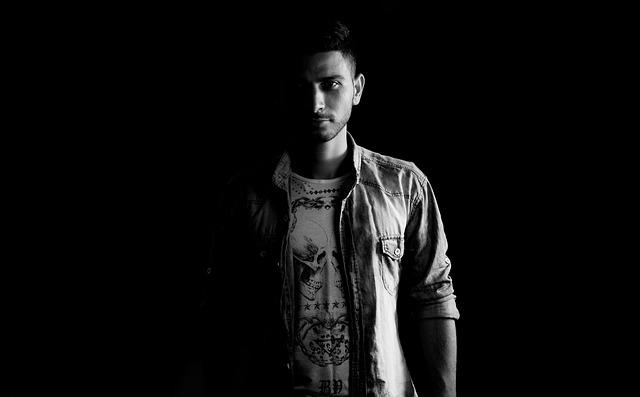Non_Gorille: (239, 23, 471, 378)
